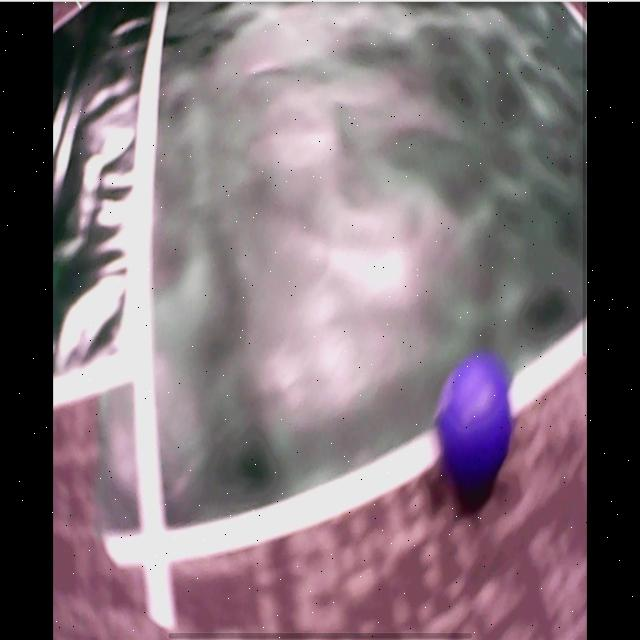ball: (439, 355, 514, 483)
